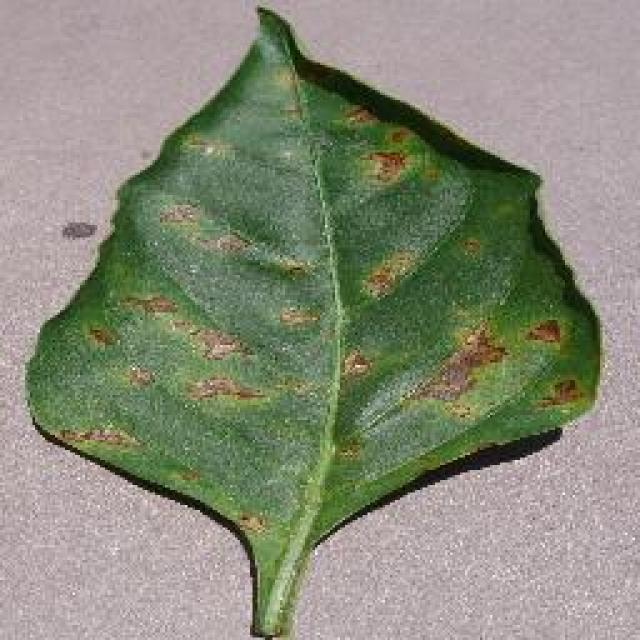Chilli_Bacterial_Spot: (20, 2, 605, 638), (395, 315, 510, 417), (115, 288, 250, 368), (335, 100, 443, 195), (355, 245, 420, 305), (52, 420, 148, 458), (183, 370, 265, 410), (183, 320, 245, 365), (530, 373, 588, 415), (360, 142, 412, 188), (115, 288, 180, 322), (272, 300, 322, 335), (152, 198, 202, 232), (358, 262, 400, 302), (265, 250, 313, 285), (335, 342, 375, 382), (520, 315, 565, 350), (80, 320, 120, 352), (228, 505, 268, 537), (120, 360, 158, 392)
